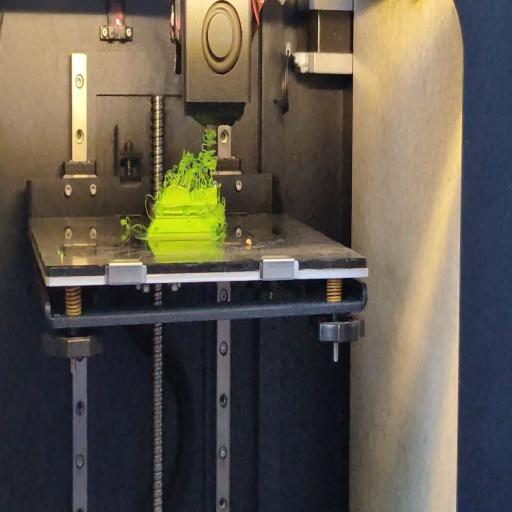spaghetti: (164, 132, 224, 188), (120, 213, 146, 232), (144, 188, 155, 221), (216, 230, 230, 247)
